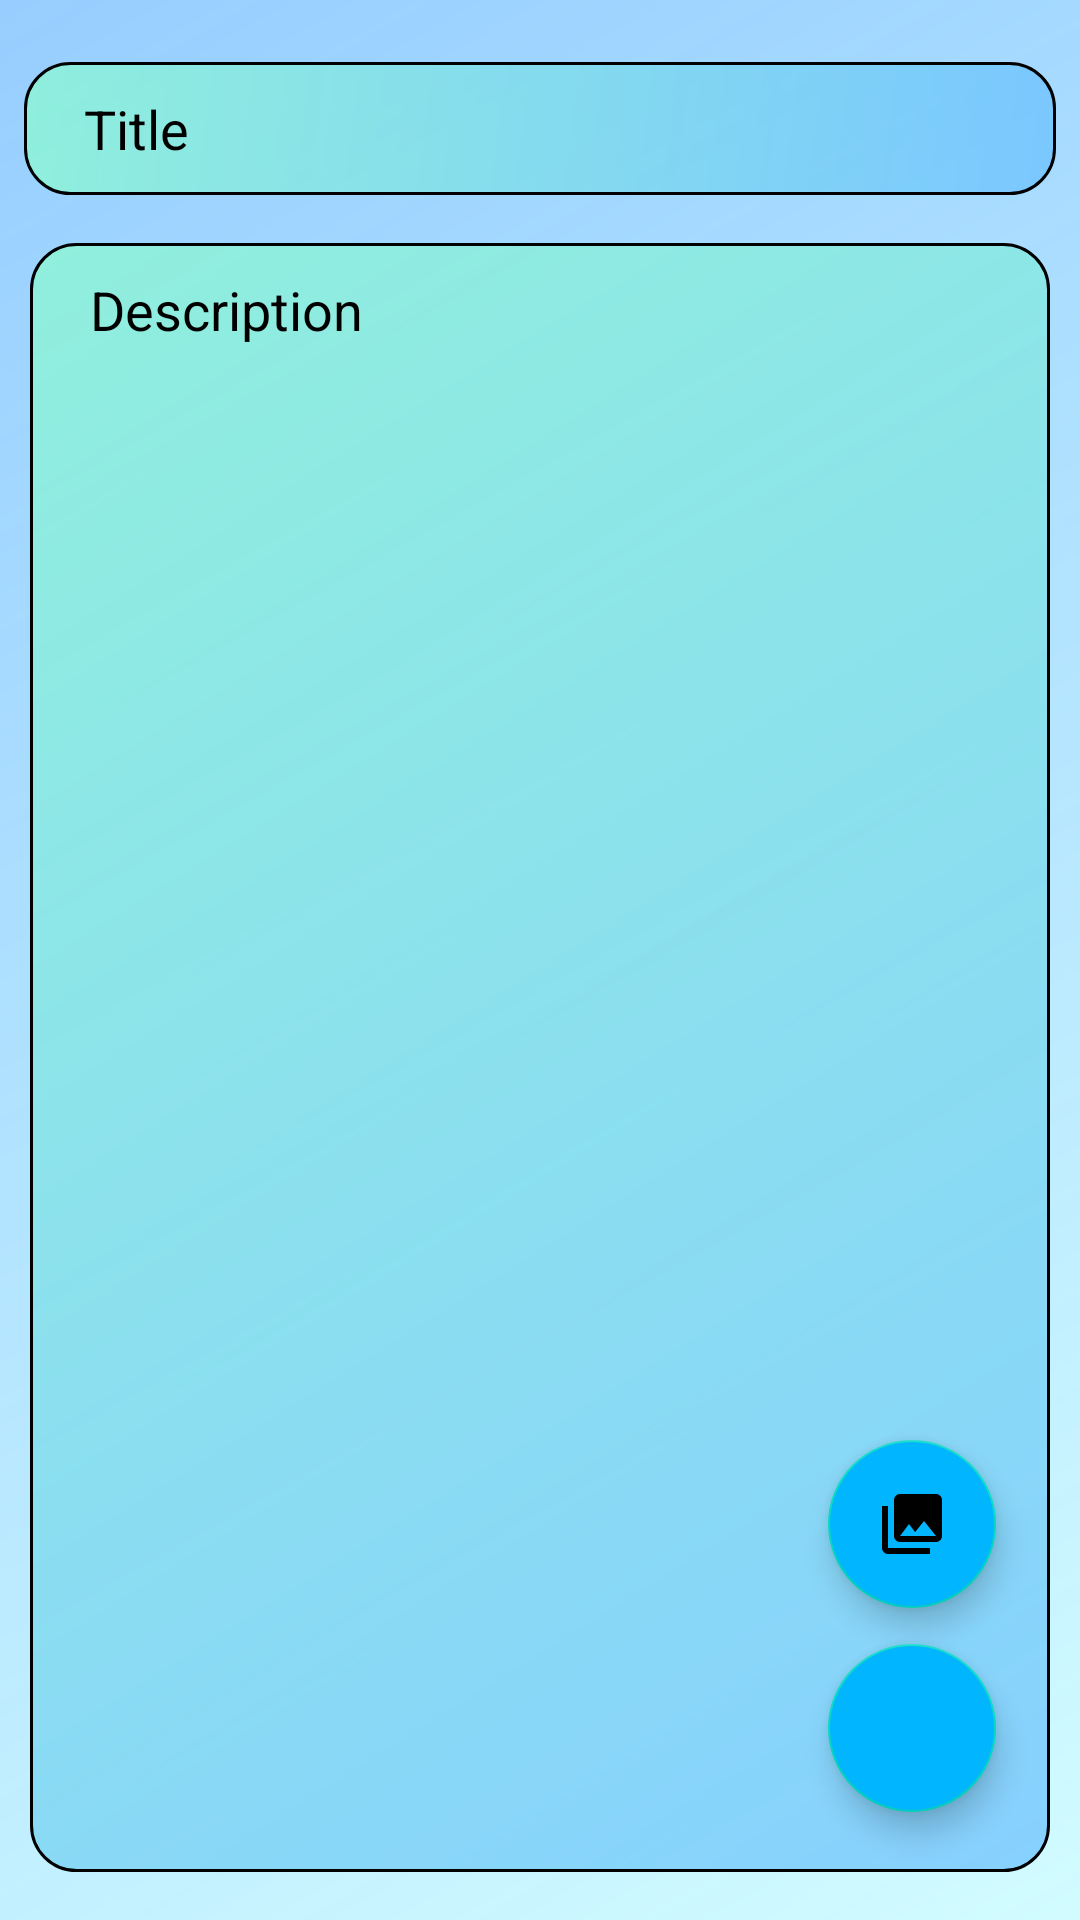

Point at icon controls on the screen. Image size 1080w x 1920h, points as (x=x, y=y).
photo library: (x=912, y=1524)
